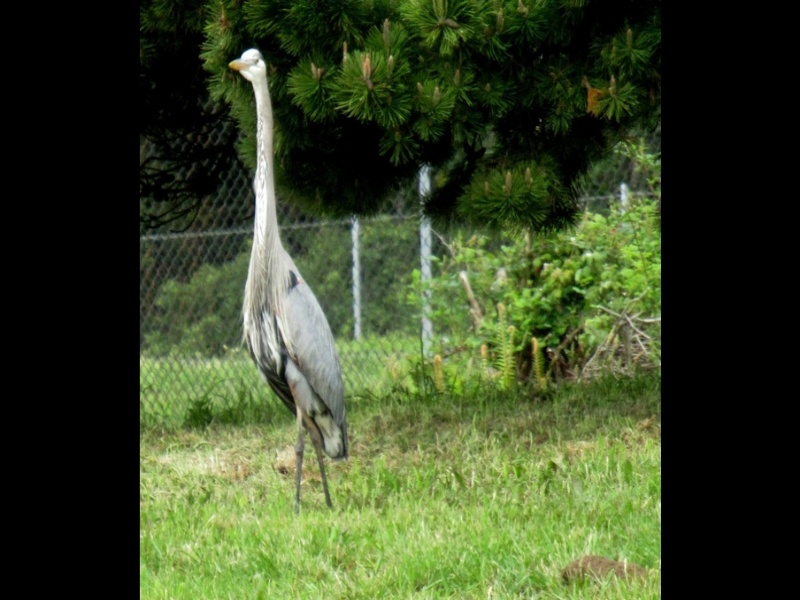heron: (221, 46, 355, 518)
